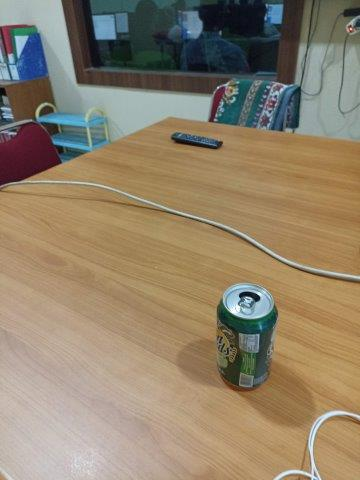kaleng: (216, 282, 279, 391)
